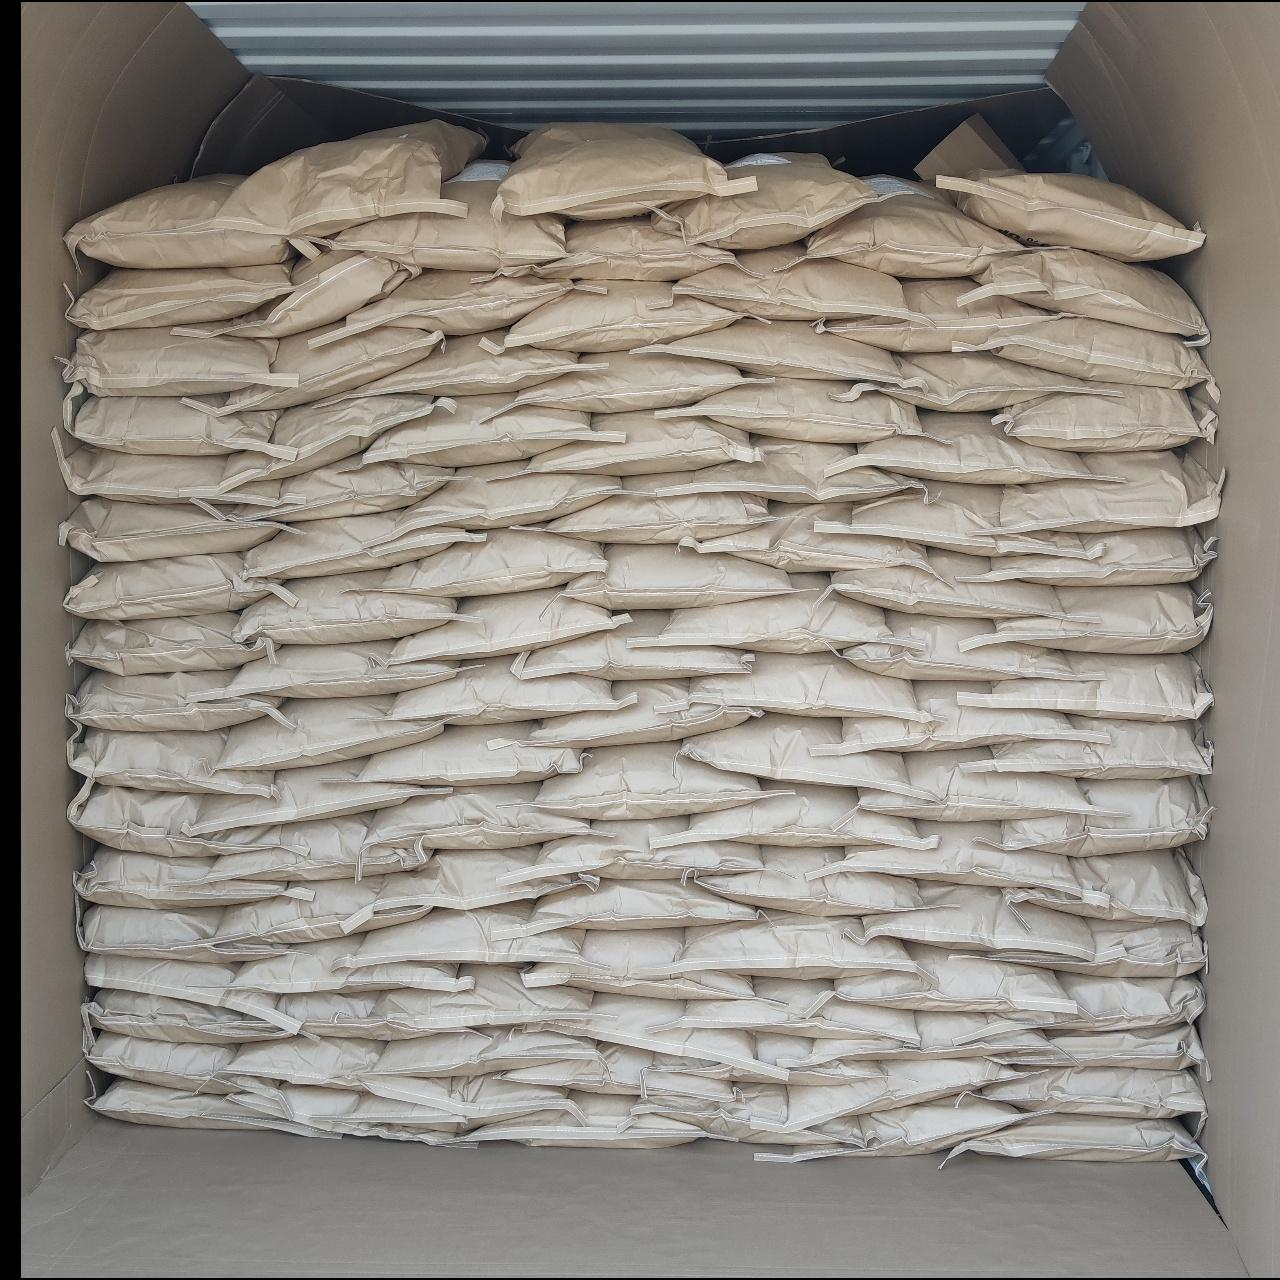sack: (216, 120, 483, 234), (308, 164, 564, 272), (937, 169, 1204, 261), (496, 124, 750, 220), (64, 175, 320, 267), (308, 271, 607, 348), (229, 1034, 493, 1118), (804, 176, 1023, 277), (222, 392, 450, 488), (52, 425, 304, 512), (968, 248, 1206, 340), (652, 154, 879, 248), (176, 250, 420, 338), (181, 758, 449, 838), (813, 682, 1099, 756), (644, 576, 914, 652), (524, 994, 787, 1073), (835, 411, 1116, 484), (216, 326, 442, 414), (988, 450, 1223, 535), (816, 822, 1085, 894), (821, 482, 1085, 556), (682, 714, 920, 796), (753, 1091, 1024, 1162), (67, 779, 308, 858), (63, 380, 297, 461), (972, 316, 1214, 394), (84, 952, 304, 1034), (360, 394, 622, 462), (632, 318, 908, 382), (682, 504, 932, 574), (535, 744, 762, 821), (654, 784, 930, 846), (392, 590, 626, 662), (818, 280, 1060, 350), (830, 944, 1070, 1014), (658, 438, 924, 502), (826, 550, 1074, 618), (956, 654, 1212, 720), (672, 246, 906, 318), (966, 584, 1212, 652), (486, 352, 764, 411), (866, 750, 1098, 822), (362, 527, 606, 595), (662, 380, 926, 442), (864, 884, 1085, 958), (790, 1058, 1024, 1128), (216, 696, 442, 768), (1000, 778, 1212, 855), (842, 612, 1088, 678), (384, 658, 626, 724), (504, 282, 740, 350), (660, 980, 915, 1042), (220, 455, 454, 523), (244, 512, 484, 578), (498, 1042, 742, 1107), (688, 654, 926, 720), (842, 354, 1118, 410), (504, 821, 764, 880), (524, 930, 753, 998), (225, 1085, 479, 1146), (515, 612, 750, 678), (561, 544, 797, 610), (240, 572, 456, 644), (524, 411, 758, 476), (1008, 850, 1206, 926), (672, 912, 914, 974), (340, 904, 583, 966), (696, 847, 920, 914), (86, 1080, 342, 1137), (394, 462, 622, 526), (964, 719, 1210, 778), (526, 682, 758, 745), (207, 812, 430, 878), (998, 386, 1216, 452), (370, 332, 595, 396), (376, 966, 590, 1034), (76, 846, 306, 908), (504, 218, 734, 280), (66, 326, 275, 394), (370, 847, 598, 910), (964, 527, 1214, 584), (542, 481, 770, 542), (448, 1094, 706, 1148), (210, 878, 425, 942), (233, 937, 472, 994), (68, 264, 288, 326), (370, 784, 590, 846), (66, 554, 292, 614), (60, 498, 286, 558), (628, 1084, 860, 1142), (68, 728, 270, 794), (942, 1116, 1204, 1166), (68, 672, 292, 730), (360, 724, 578, 784), (68, 612, 275, 674), (522, 880, 764, 932), (220, 642, 459, 694), (88, 1032, 278, 1096), (813, 1012, 1051, 1062), (342, 1082, 574, 1132), (658, 1032, 880, 1082), (1008, 974, 1201, 1032), (368, 1028, 594, 1076), (82, 990, 286, 1043), (80, 906, 286, 958), (980, 1073, 1204, 1118), (1022, 918, 1204, 974), (996, 1026, 1204, 1070), (277, 990, 430, 1039)
